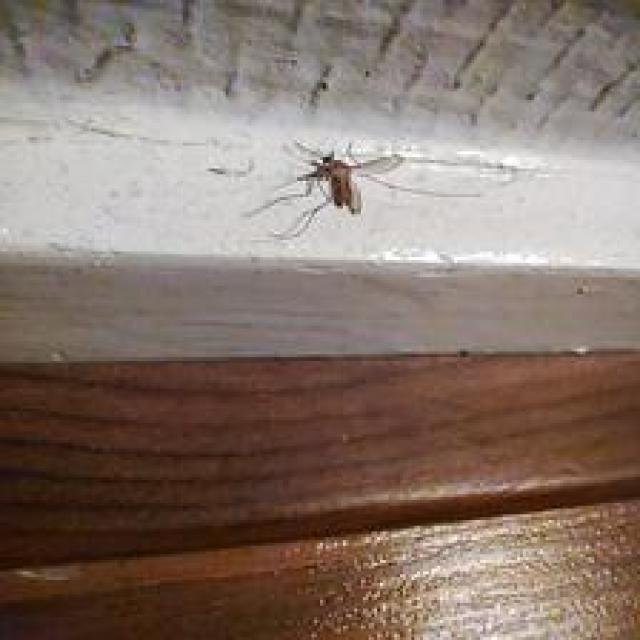Culex: (243, 137, 480, 240)
